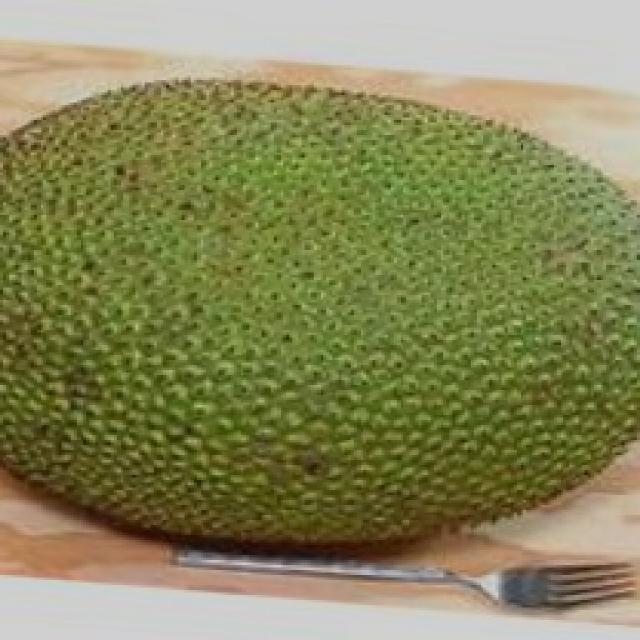Fruit: (0, 33, 400, 415), (264, 30, 640, 365)
